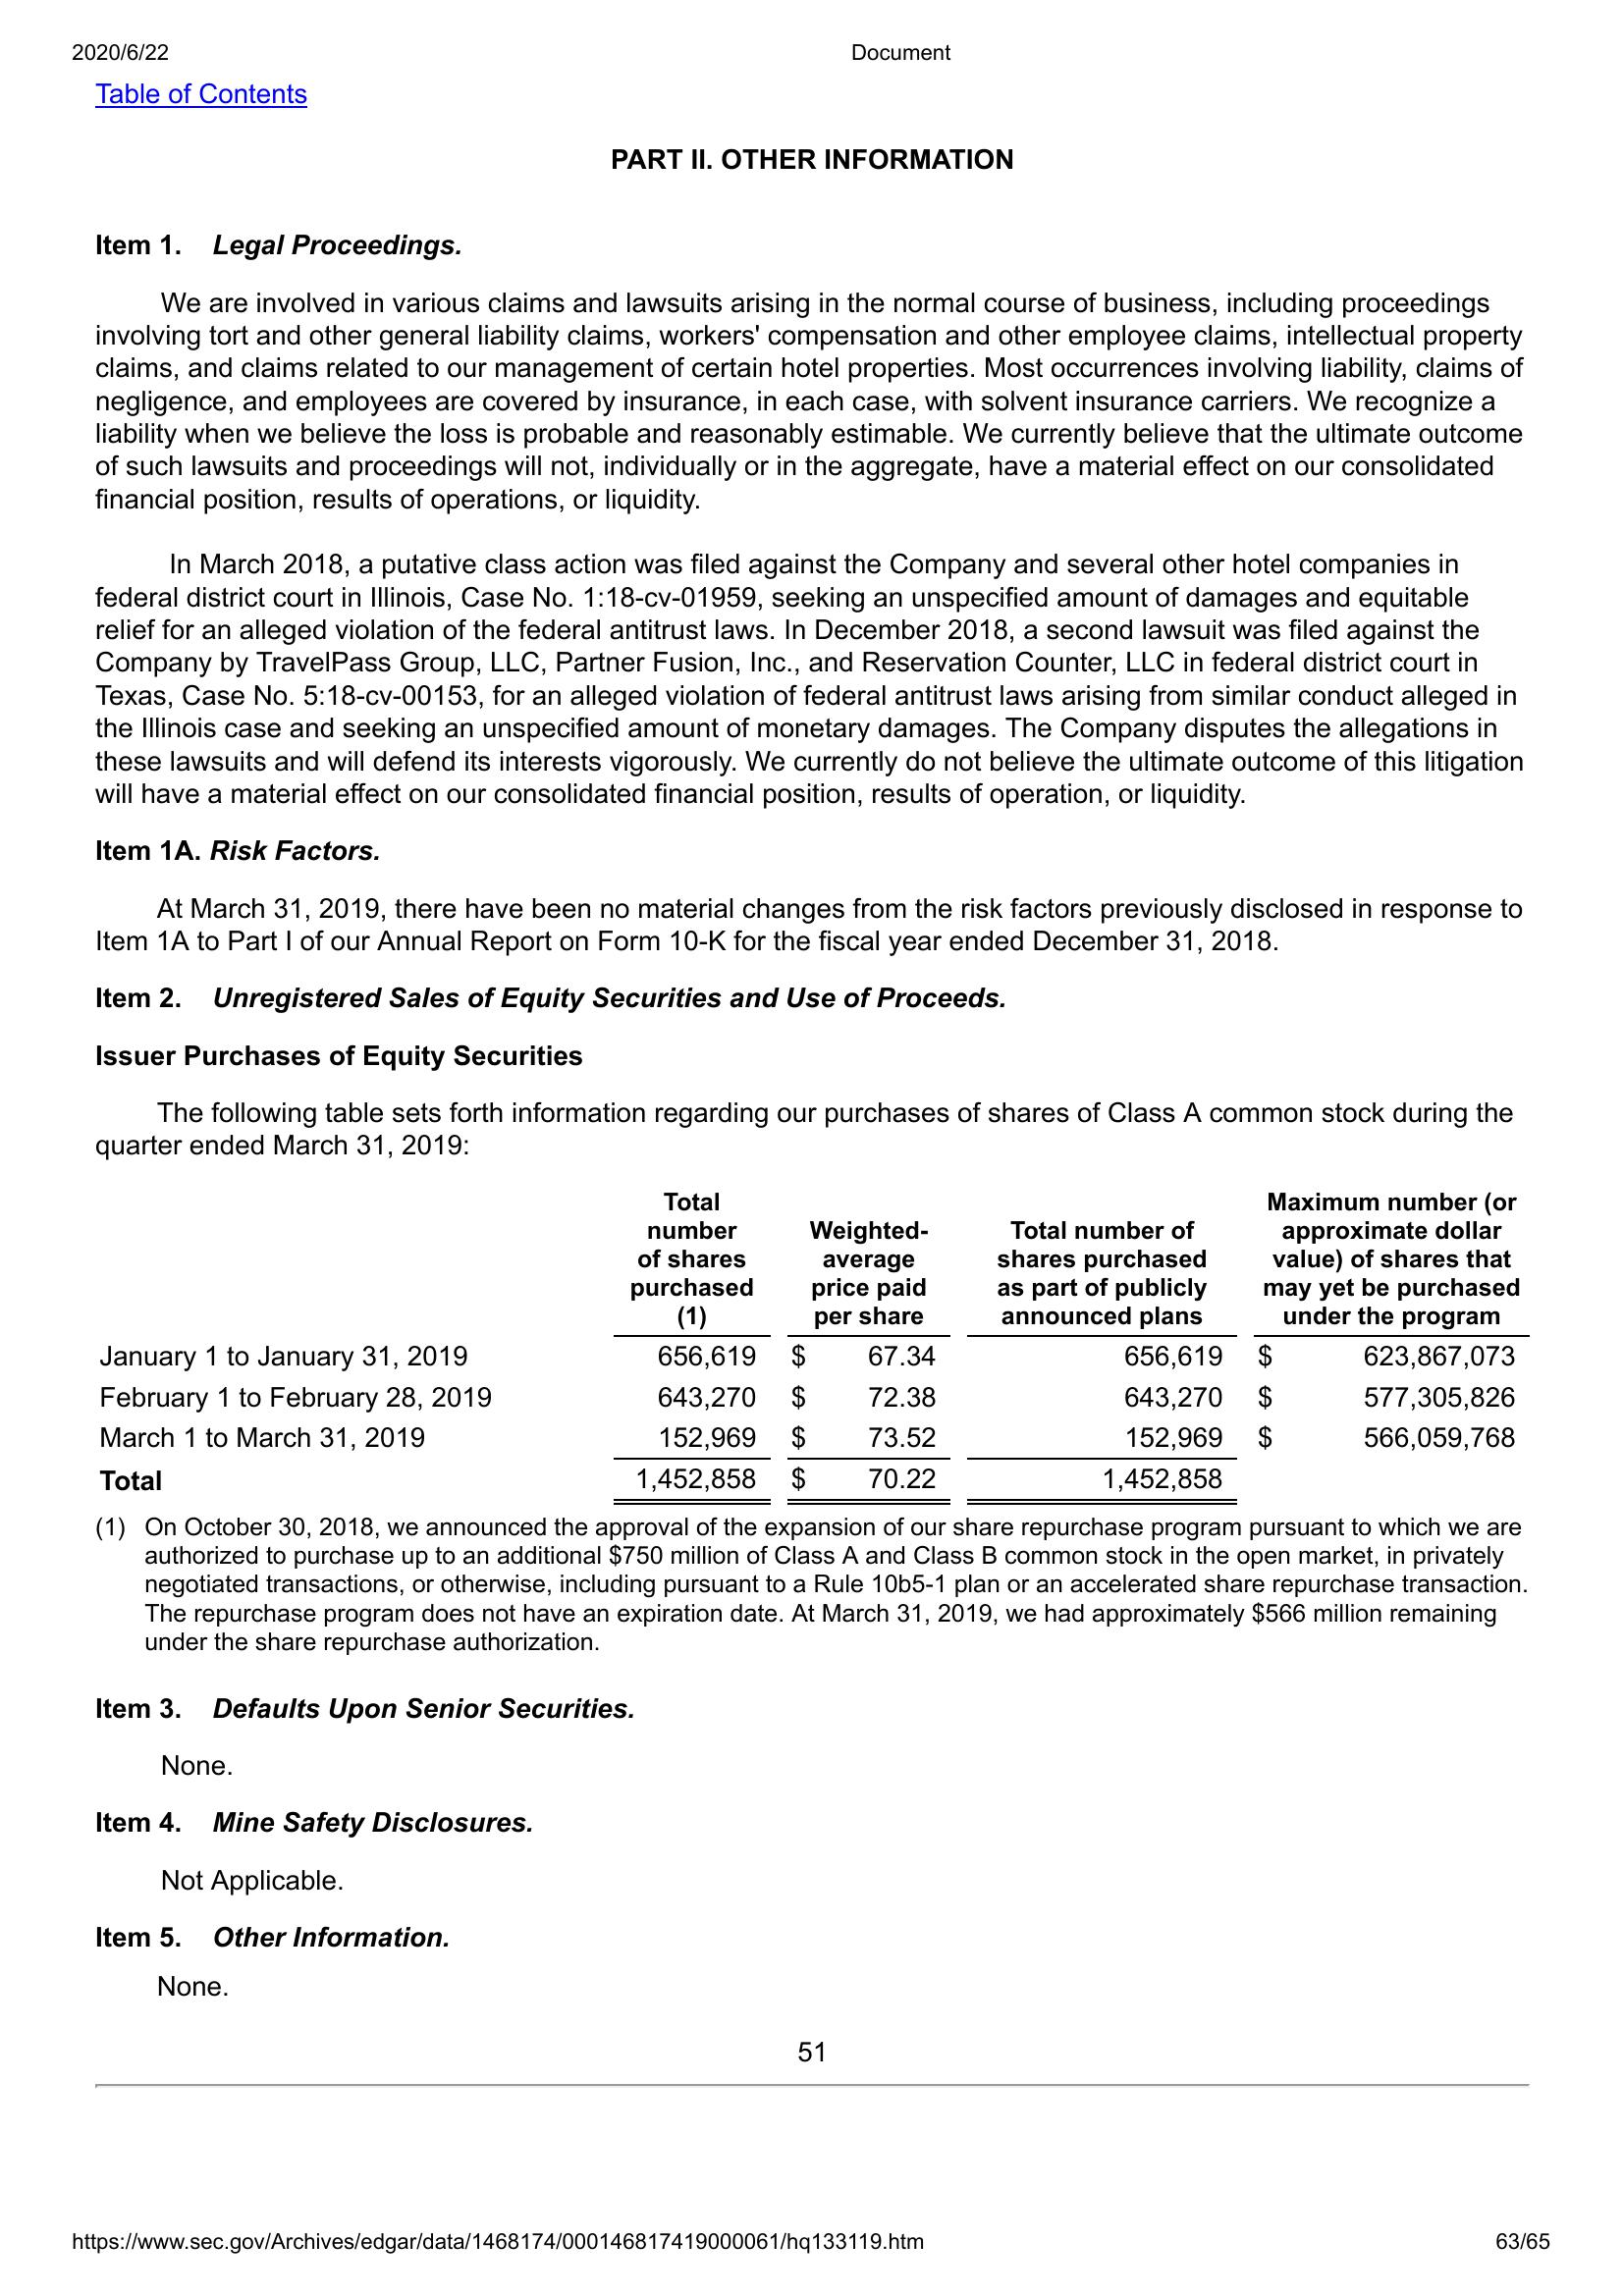table: (580, 1183, 1535, 1513)
